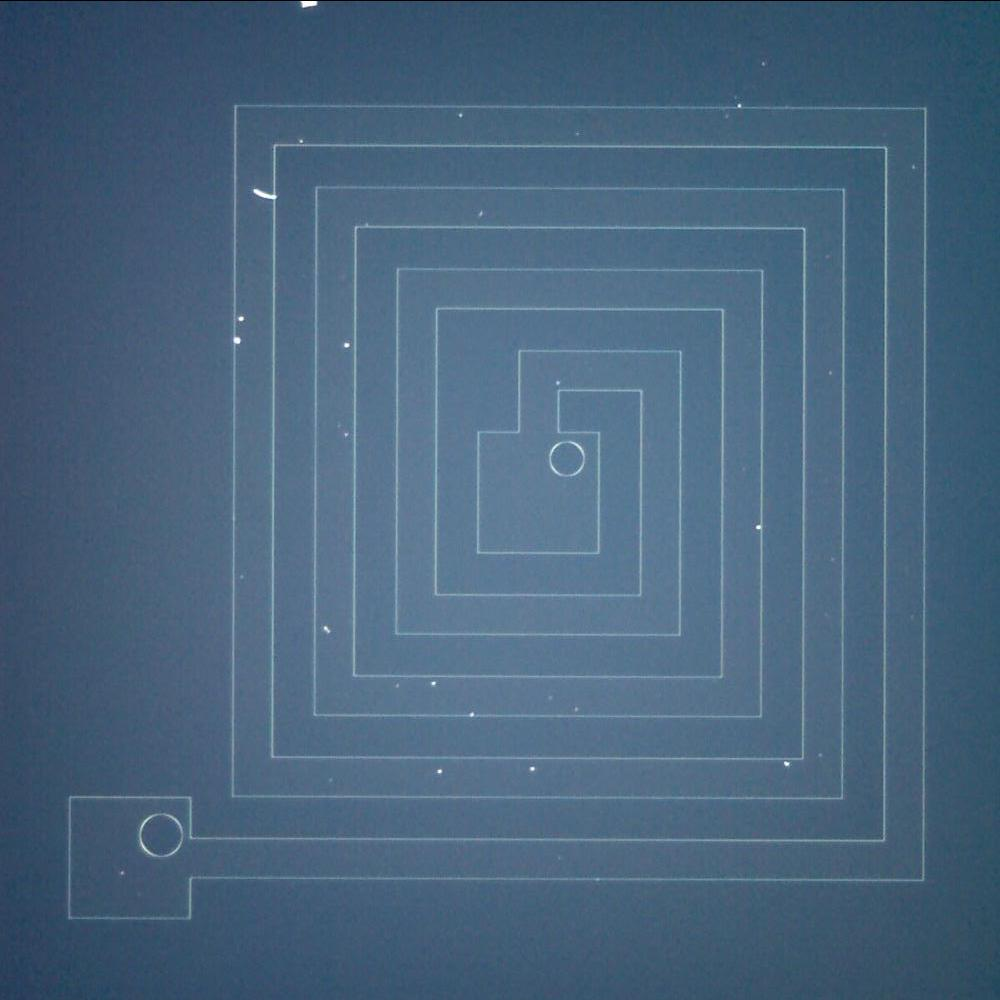circle: (132, 810, 186, 857), (542, 435, 590, 481)
dot: (222, 328, 250, 354), (730, 92, 754, 120), (744, 516, 770, 540), (424, 760, 452, 782), (518, 758, 546, 780), (546, 366, 568, 394), (422, 671, 446, 695), (468, 200, 492, 223), (776, 750, 798, 775), (449, 100, 471, 124), (460, 700, 482, 724), (228, 308, 251, 330), (290, 128, 310, 153), (337, 332, 356, 356)
